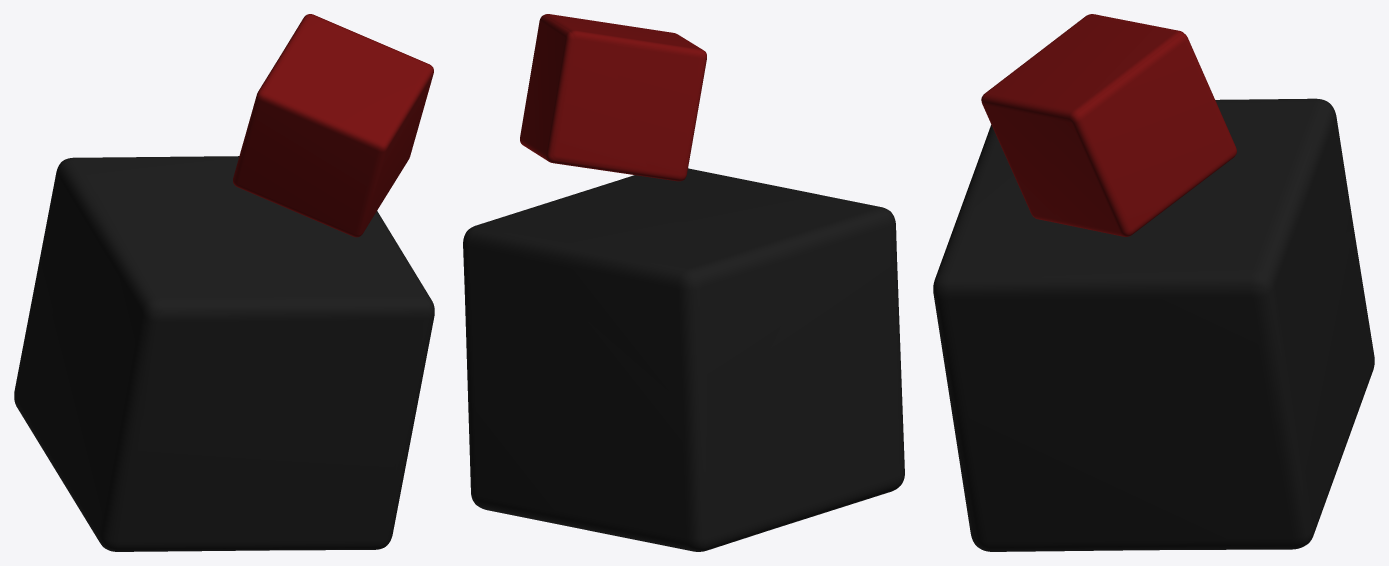
3 views of the same model, side by side, from view 1: azimuth 30°, elevation 25°; view 2: azimuth 150°, elevation 25°; view 3: azimuth 270°, elevation 25° (orthographic). The views are drawn at different scales.
Visible parts, largest first — view 1: Object005; view 2: Object005; view 3: Object005.
Boxes of the visible parts, box(x1,y1,x2,y2) form: Object005: box(14, 14, 434, 551); Object005: box(463, 14, 904, 551); Object005: box(933, 14, 1374, 551).
Bounding box in the file's own units: 0.0299 × 0.0387 × 0.0294.
